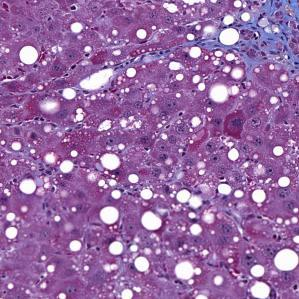fibrosis: (220, 0, 299, 68)
